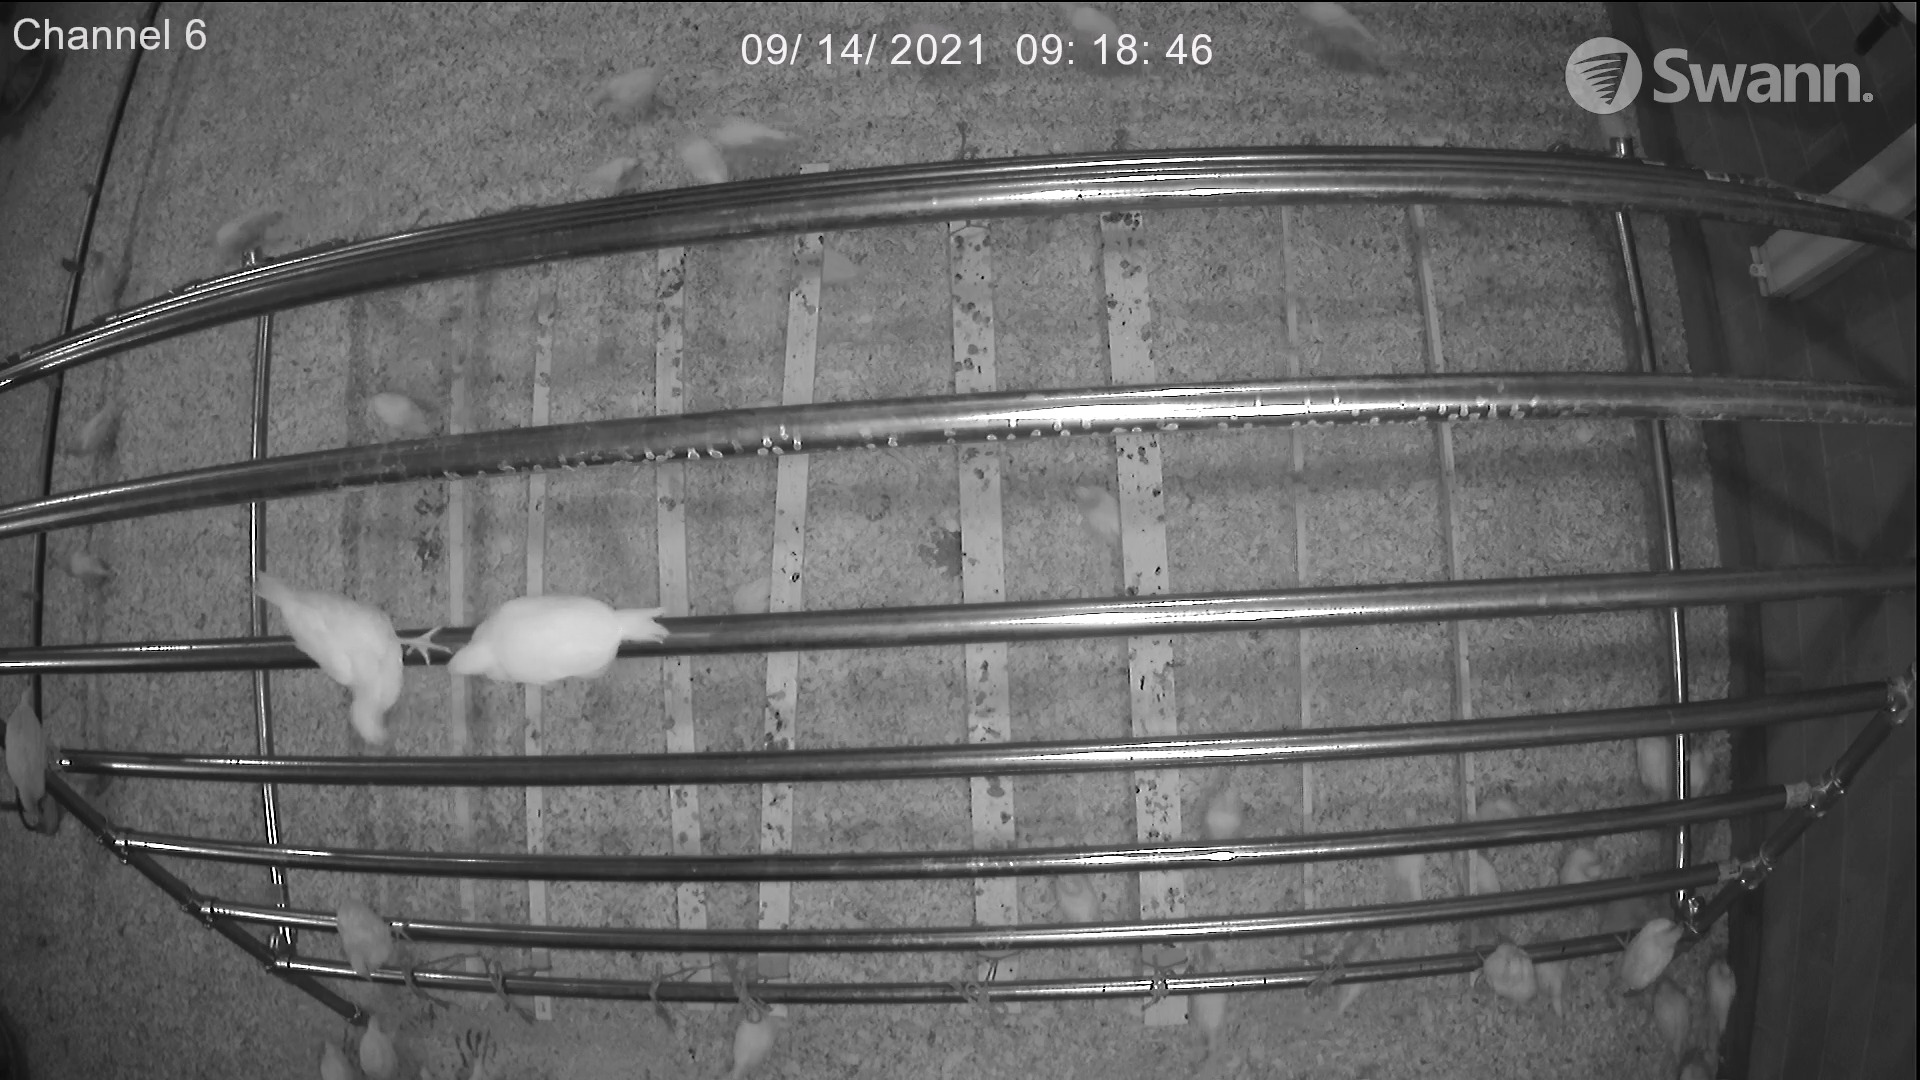Perching: (206, 555, 446, 752), (447, 570, 676, 716)
